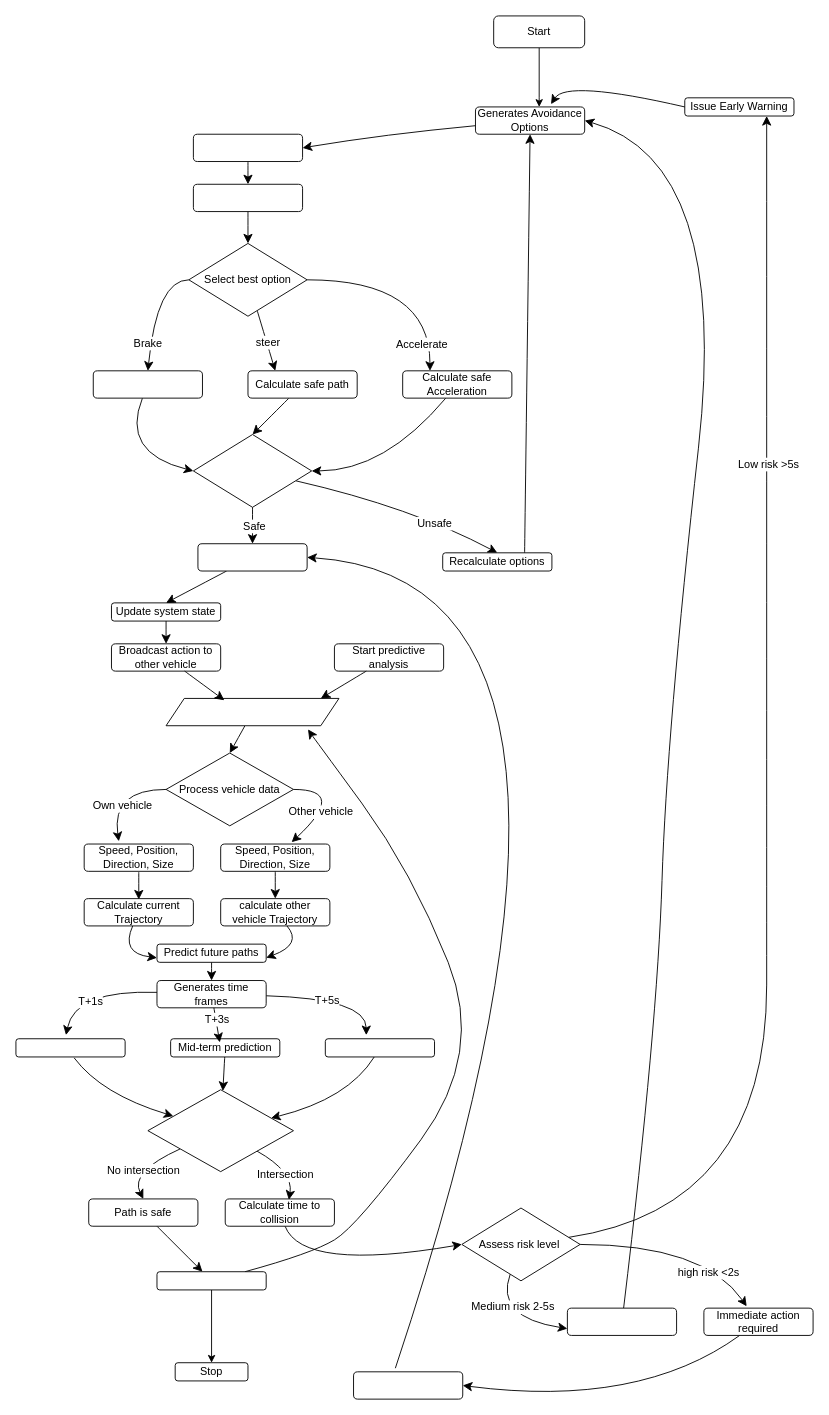
The diagram is 829 pixels wide and 1415 high, and some of its shapes have lost their labels. The shapes that lost their labels are listed below. From the top down, each one's centre as x and y in pixels, then its label:
At [247,147]: "Simulates Potential Outcome".
At [247,197]: "Rank Options by safety score".
At [147,384]: "Calculate optimal braking".
At [252,470]: "Validate safety".
At [252,557]: "Execute selected action".
At [252,712]: "Gather real time sensor data".
At [70,1047]: "Short-term prediction".
At [379,1047]: "Long-term prediction".
At [220,1130]: "Check path intersection".
At [211,1280]: "Continue monitoring".
At [621,1321]: "Prepare avoidance options".
At [408,1385]: "Emergency avoidance protocol".
